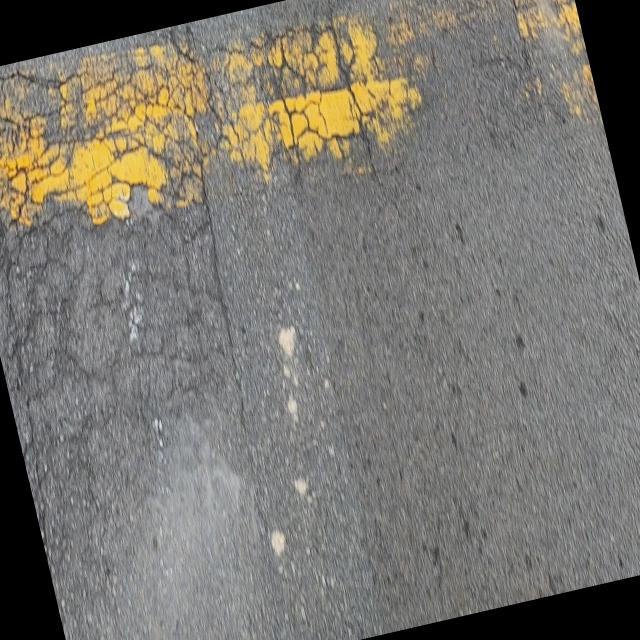Retak-Buaya: (0, 8, 399, 640)
Retak-Memanjang: (203, 198, 252, 424)
